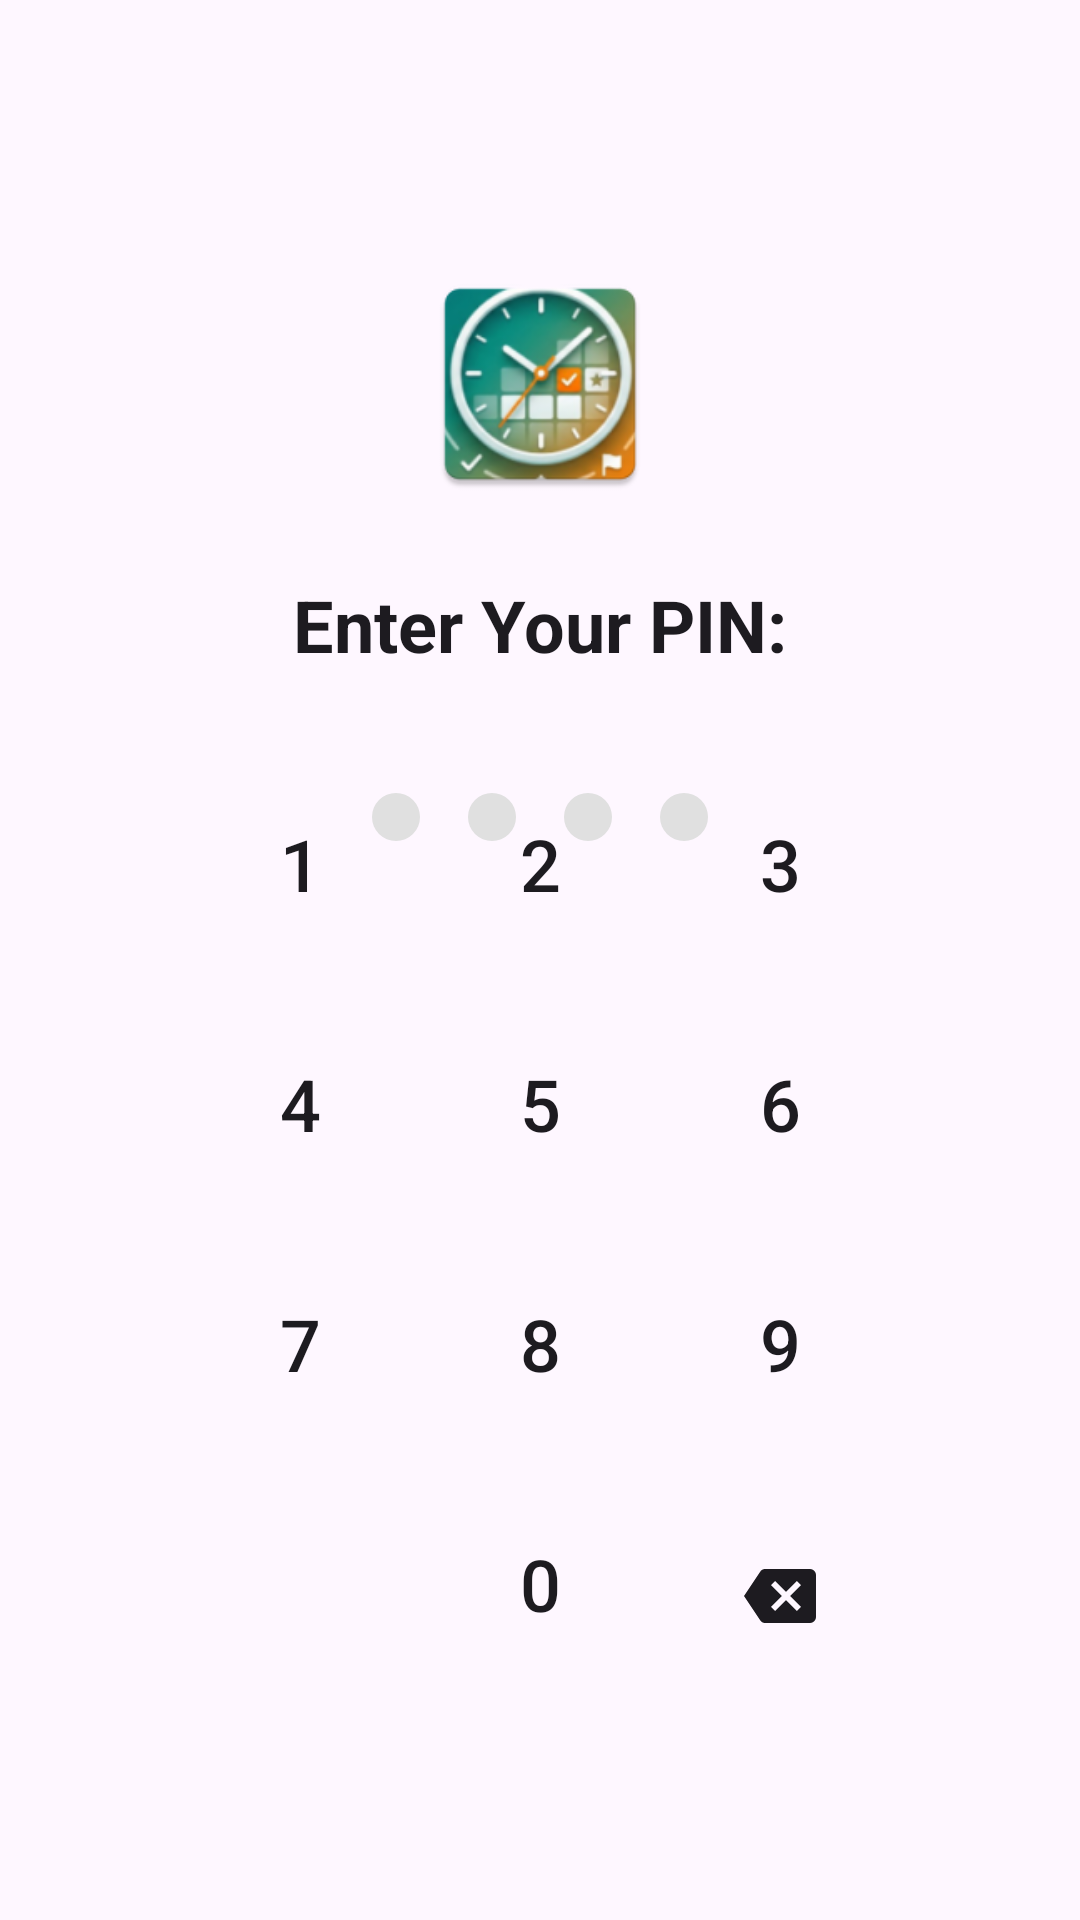

Icons on this 1080 × 1920 Android screen, each with its box as [x1, y1, x2, y2]:
delete: [744, 1569, 816, 1623]
